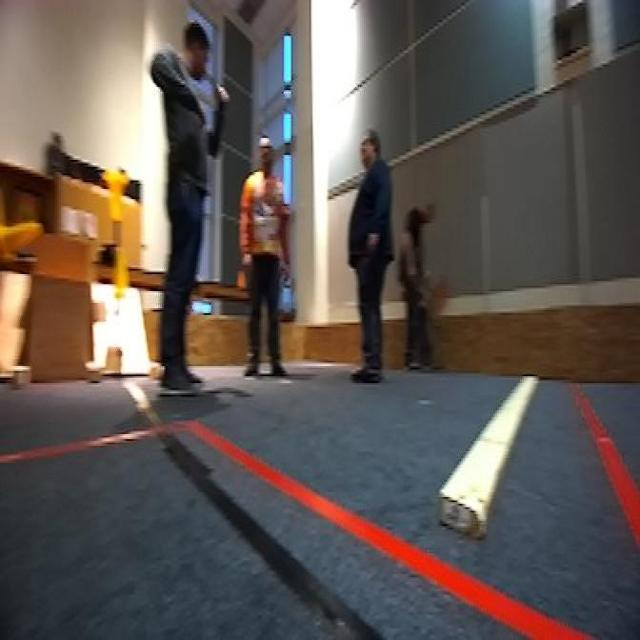frc_cone: (0, 216, 40, 269), (103, 168, 128, 220), (110, 247, 130, 301)
